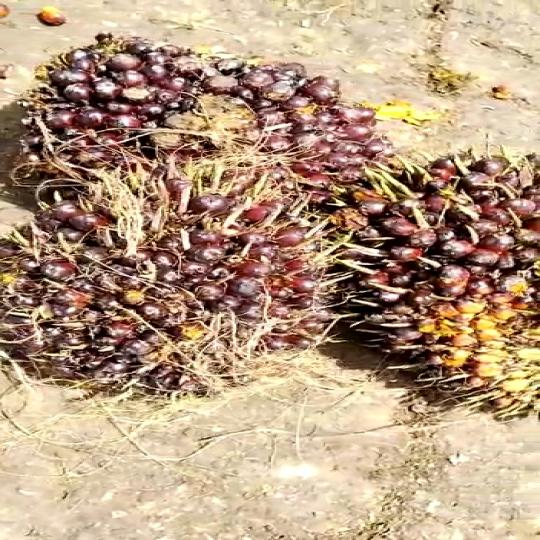kurang masak: (0, 166, 350, 408), (310, 138, 540, 437), (32, 32, 370, 200)
